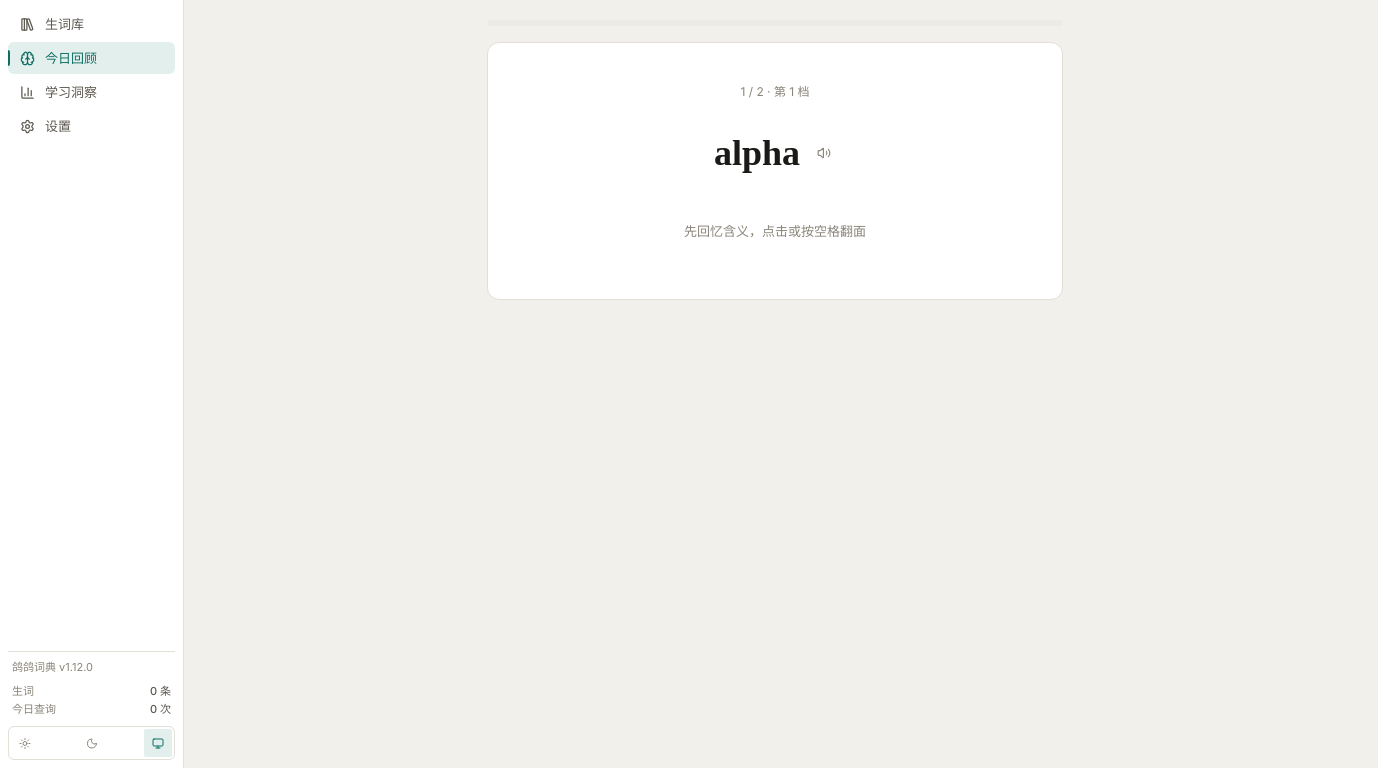
Scenario: the review page › records 认识（1） as the answer correct, refreshes the library and goes on to the next card
The width and height of the screenshot is (1378, 768).
Step 1. Click the button named "翻面" → click(775, 171), box [488,43,1062,299]
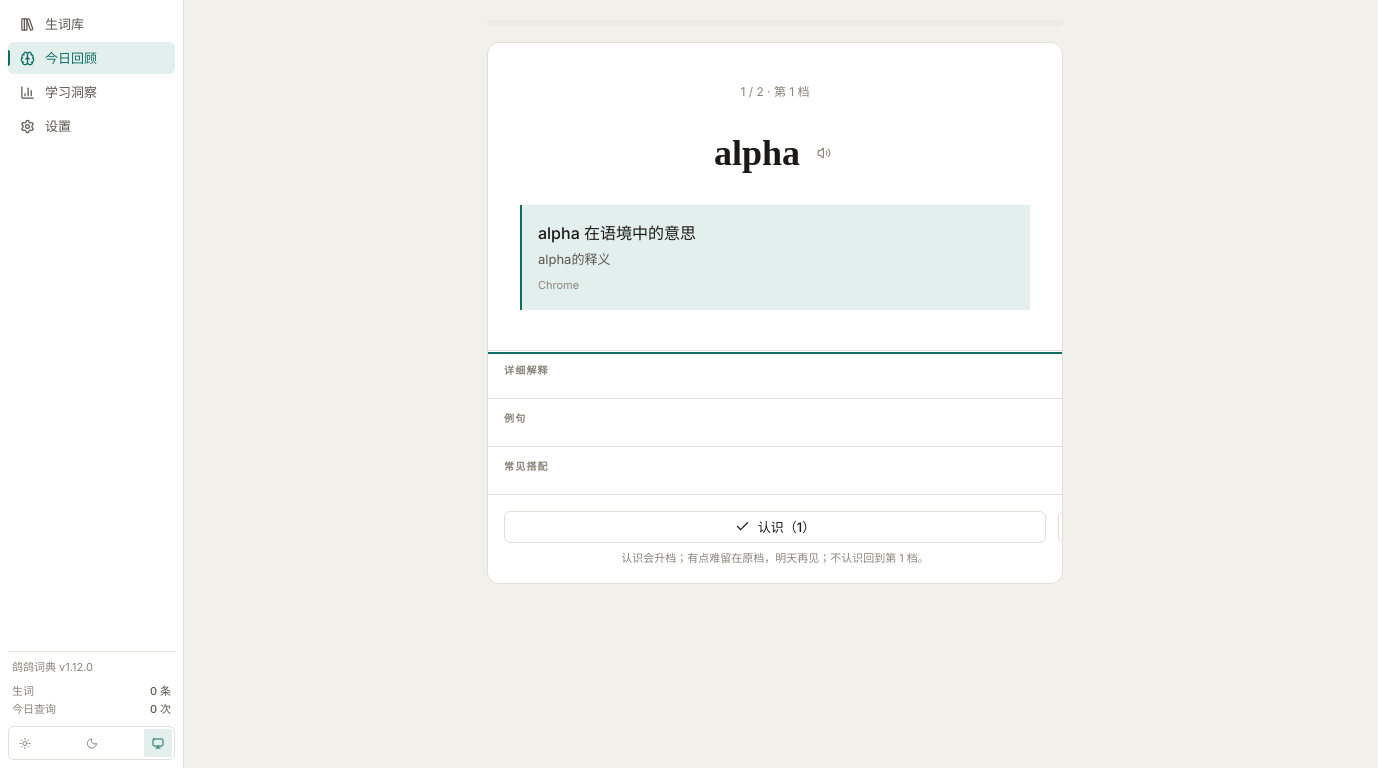
Step 2. Click the button "认识（1）" → click(775, 527), box [504,511,1046,543]
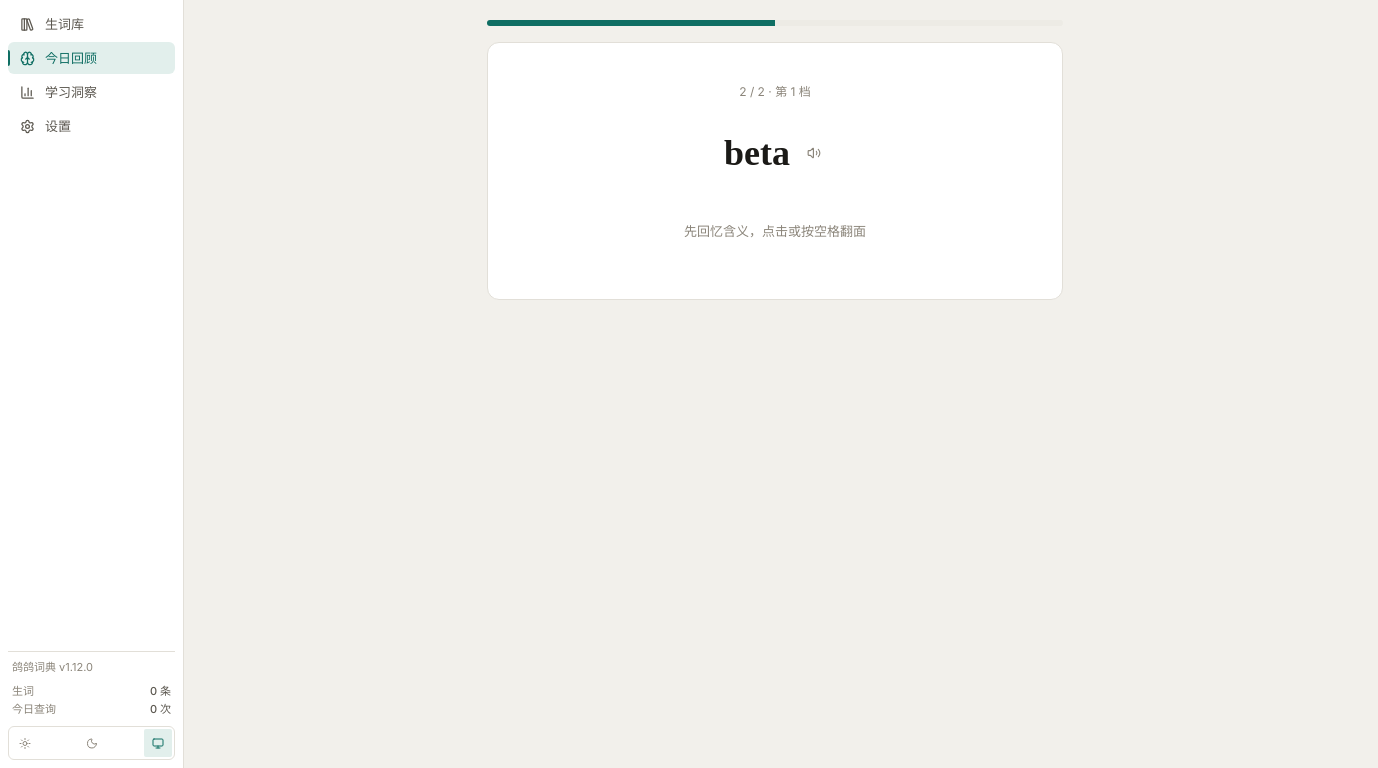
Check: the text "2 / 2 · 第 1 档" is shown, box [739,84,811,99]
Check: the heading "beta" is shown, box [724,133,790,173]
Check: the text "先回忆含义，点击或按空格翻面" is shown, box [684,223,866,239]
